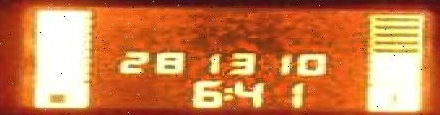0: (292, 50, 326, 76)
1: (281, 79, 305, 108), (198, 50, 221, 73), (271, 51, 292, 75)
2: (115, 49, 149, 74)
3: (227, 49, 255, 75)
4: (232, 79, 260, 109)
6: (185, 76, 219, 109)
8: (149, 48, 188, 74)
X: (221, 85, 232, 100)
